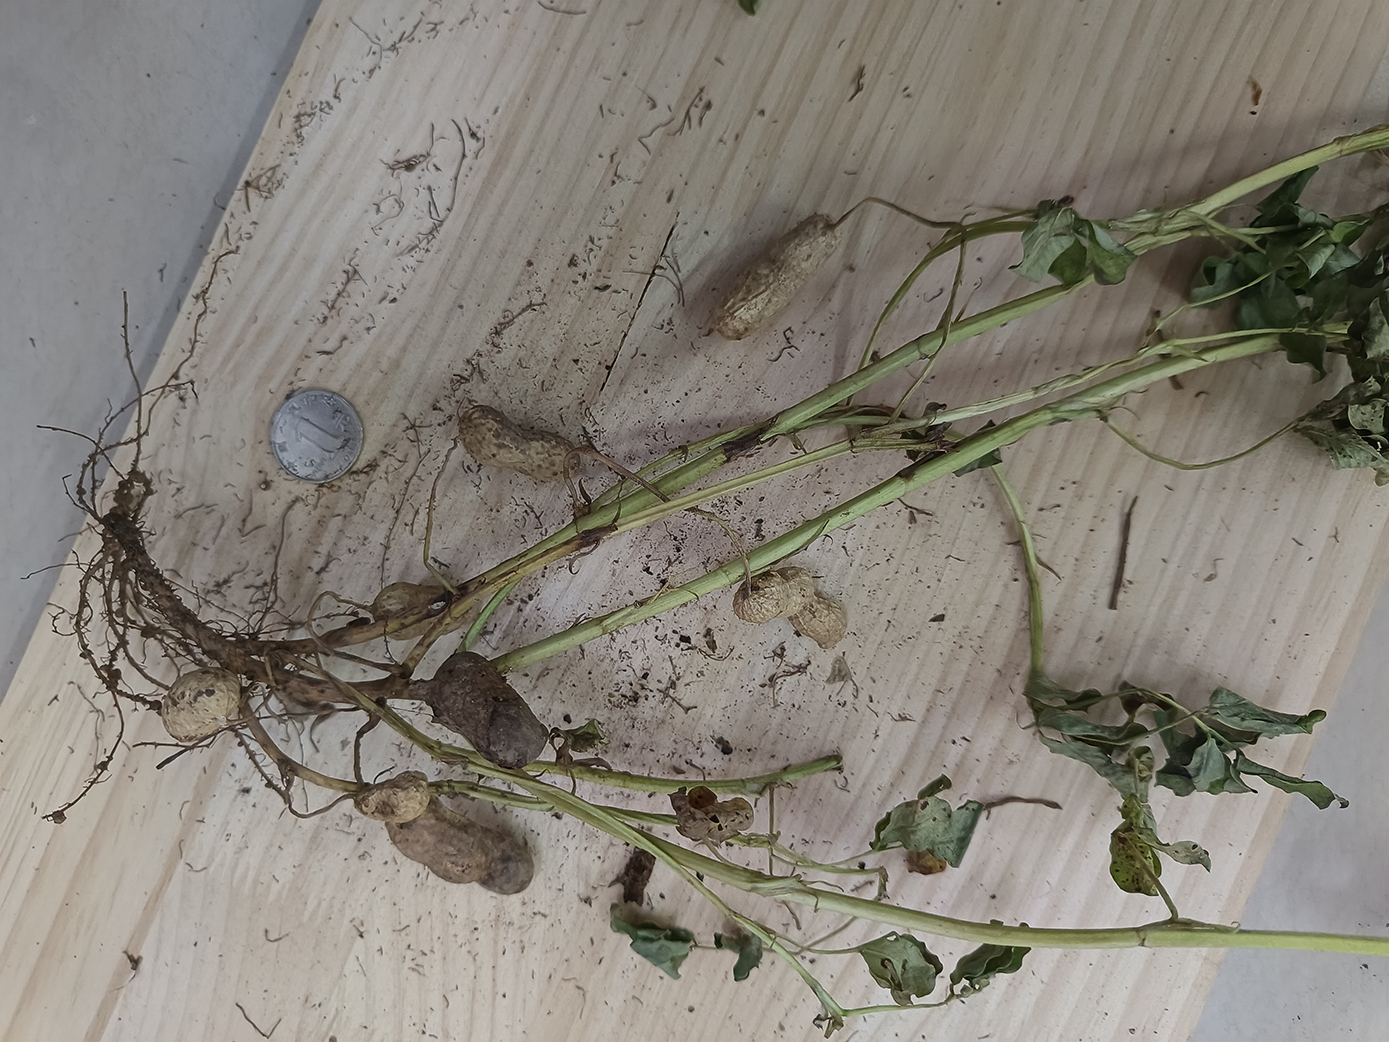h: (715, 213, 842, 338), (459, 406, 580, 482), (734, 567, 846, 649), (161, 665, 241, 743), (373, 586, 482, 639), (357, 769, 431, 824)
l: (429, 650, 544, 769), (387, 804, 534, 893)
